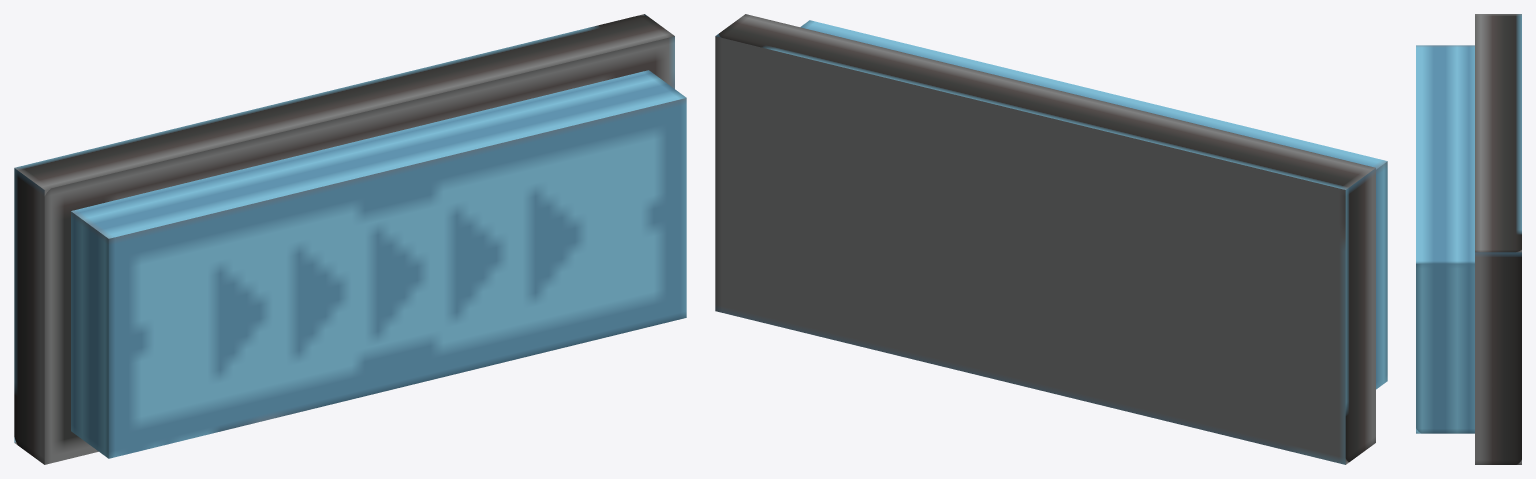
File: Button_Magnet.fbx
3 renders of one model, left to right at view 1: azimuth 30°, elevation 25°; view 2: azimuth 150°, elevation 25°; view 3: azimuth 270°, elevation 25°, orthographic. The views are drawn at different scales.
Parts seen in each view (by area): view 1: cube, cube_1; view 2: cube_1, cube; view 3: cube, cube_1.
Part boxes in pixels (x1,y1,x2,y2): cube: [71, 70, 686, 458]; cube_1: [14, 14, 674, 464]; cube_1: [715, 14, 1375, 464]; cube: [800, 20, 1387, 389]; cube: [1416, 45, 1474, 433]; cube_1: [1475, 14, 1521, 464].
Bounding box in the file's own units: 300 × 125 × 56.25.
Materials: 1 (1 with a texture image).
